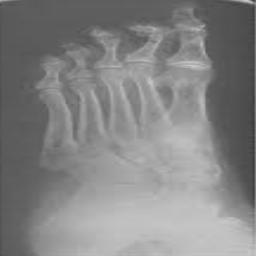cancer: (45, 145, 168, 215)
